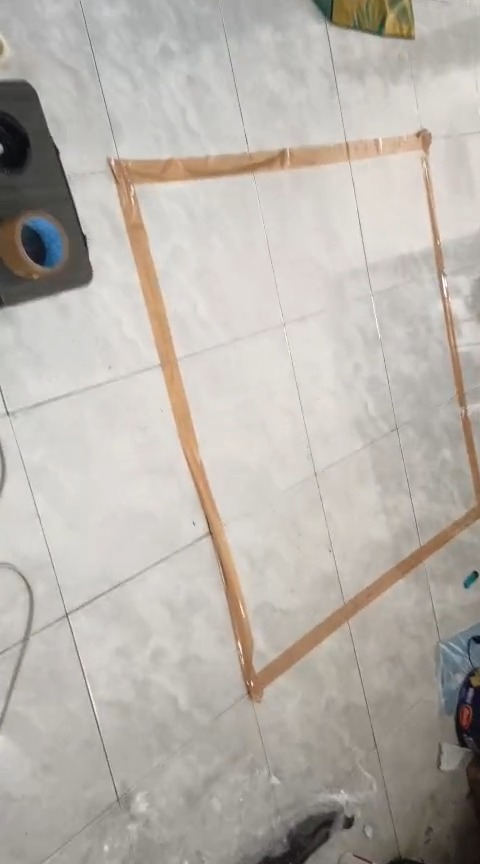floor marking: (110, 130, 479, 696)
